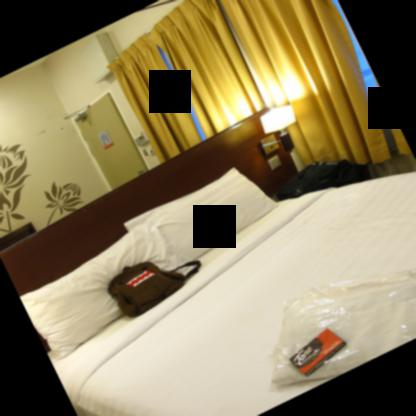backpack: (108, 258, 203, 320), (287, 158, 372, 199)
